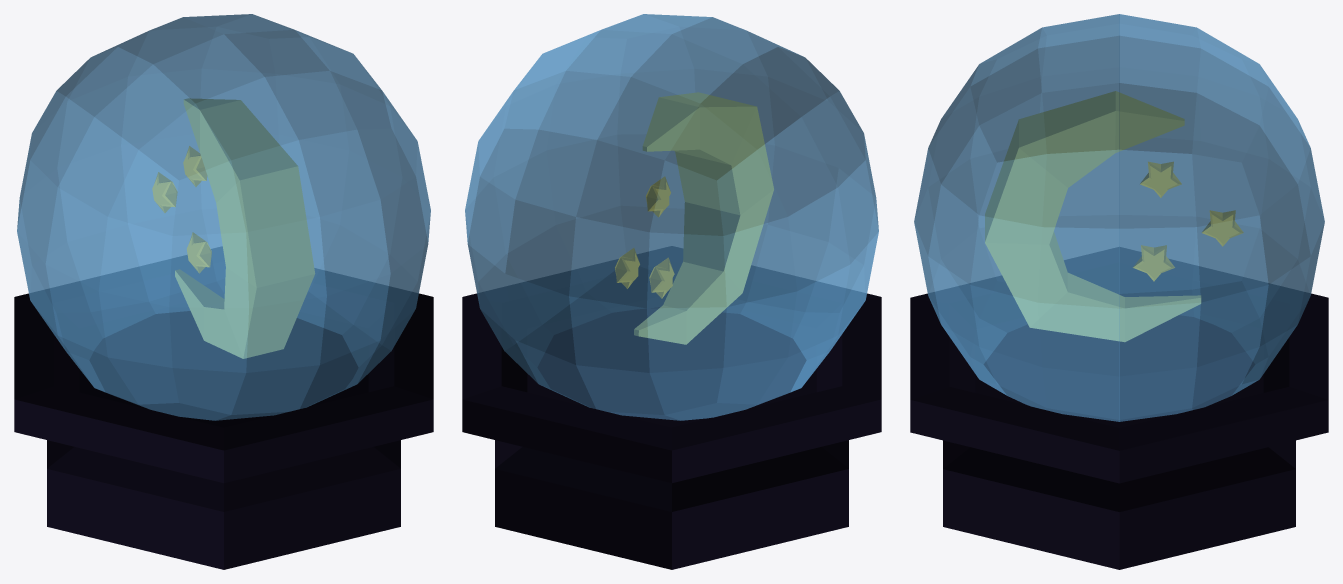
The model's file is Magic Sphere.fbx.
The picture shows the model from 3 angles, left to right: view 1: azimuth 30°, elevation 25°; view 2: azimuth 150°, elevation 25°; view 3: azimuth 270°, elevation 25°; orthographic projection.
Visible parts, largest first — view 1: Node 0; view 2: Node 0; view 3: Node 0.
Boxes of the visible parts, bbox=[...] form: Node 0: bbox=[14, 14, 433, 569]; Node 0: bbox=[462, 14, 881, 569]; Node 0: bbox=[910, 14, 1328, 569].
Size of the model in its own units: 0.5412 by 0.6394 by 0.6249.
